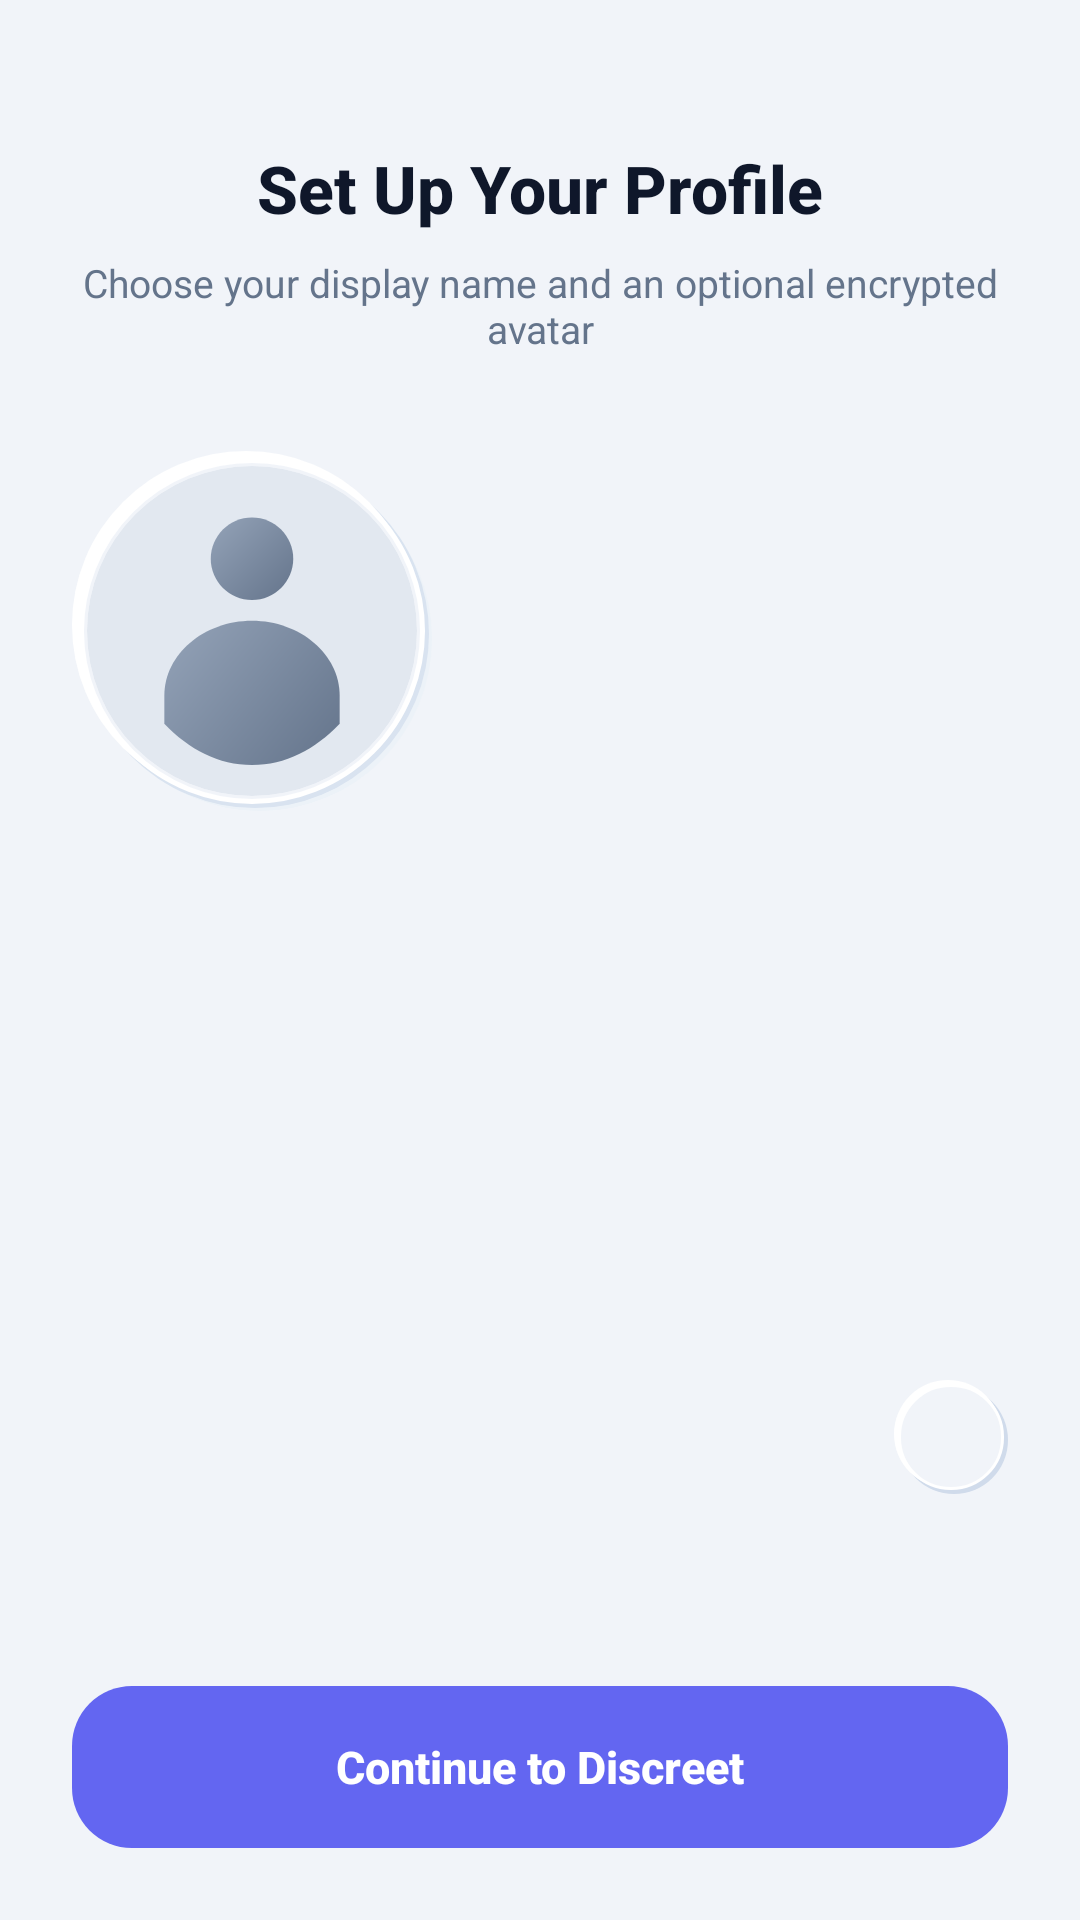

Locate icon controls on the screen. Image size 1080 × 1920, boxes as rect(x1, y1, x2, y2).
person: rect(87, 466, 417, 796)
